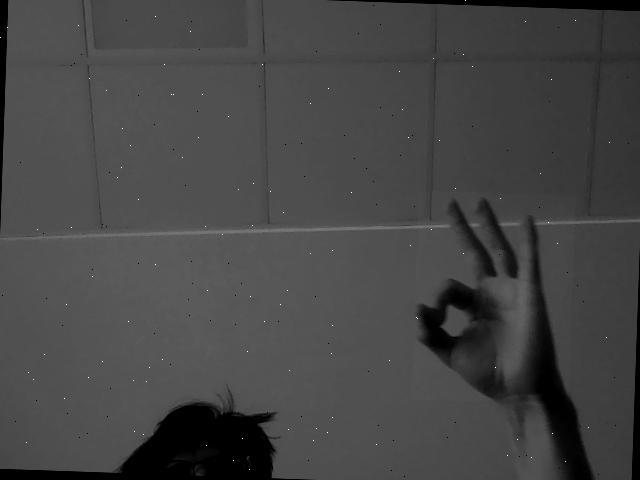OK: (415, 192, 569, 402)
